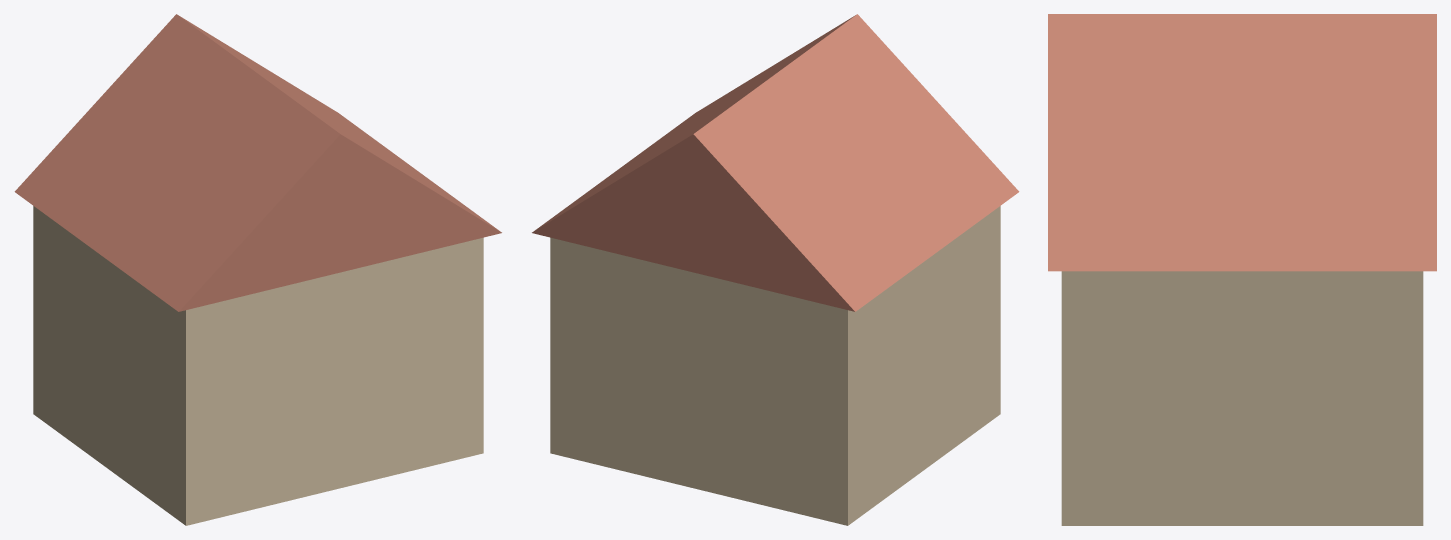
Rendered from Building_1.glb.
The picture shows the model from 3 angles, left to right: view 1: azimuth 30°, elevation 25°; view 2: azimuth 150°, elevation 25°; view 3: azimuth 270°, elevation 25°; orthographic projection. The views are drawn at different scales.
Visible parts, largest first — view 1: Building_1; view 2: Building_1; view 3: Building_1.
Boxes of the visible parts, bbox=[...] form: Building_1: bbox=[14, 14, 501, 525]; Building_1: bbox=[532, 14, 1019, 525]; Building_1: bbox=[1048, 14, 1436, 525].
Bounding box in the file's own units: 4.9 × 5.2 × 4.3.
